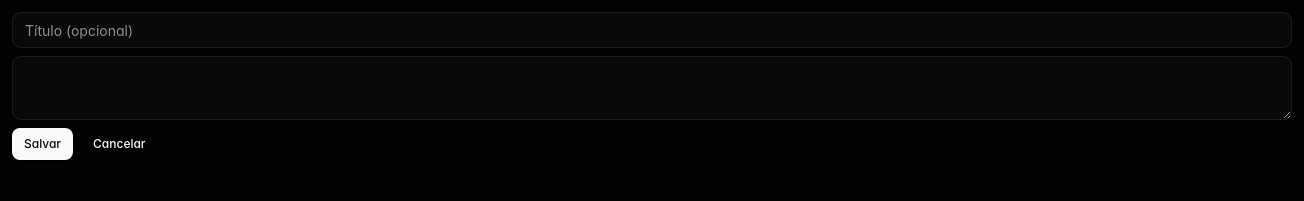
Scenario: DraftForm › rejects an empty body
Click the button "Salvar" at point(42, 144), box x1=12 y1=128 x2=73 y2=160
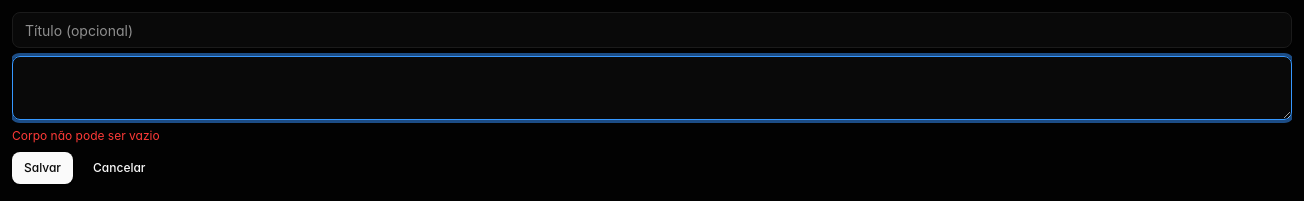
Expected: the text "Corpo não pode ser vazio" is shown, x1=12 y1=128 x2=160 y2=143
